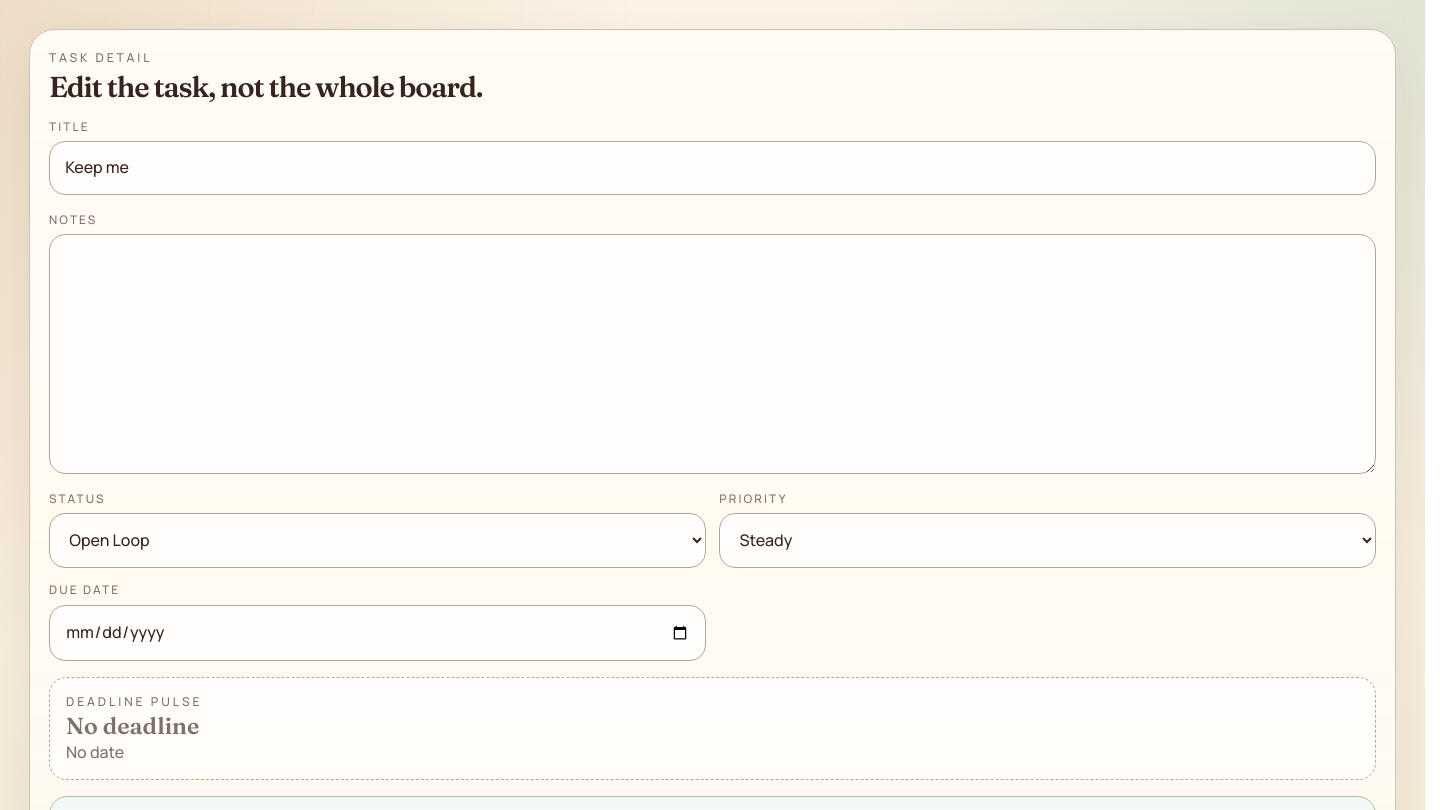
Test: TaskDetail editable title › shows an error when the user clears the title and blurs
Clear the field labelled "Title": (712, 168) [49,141,1376,195]
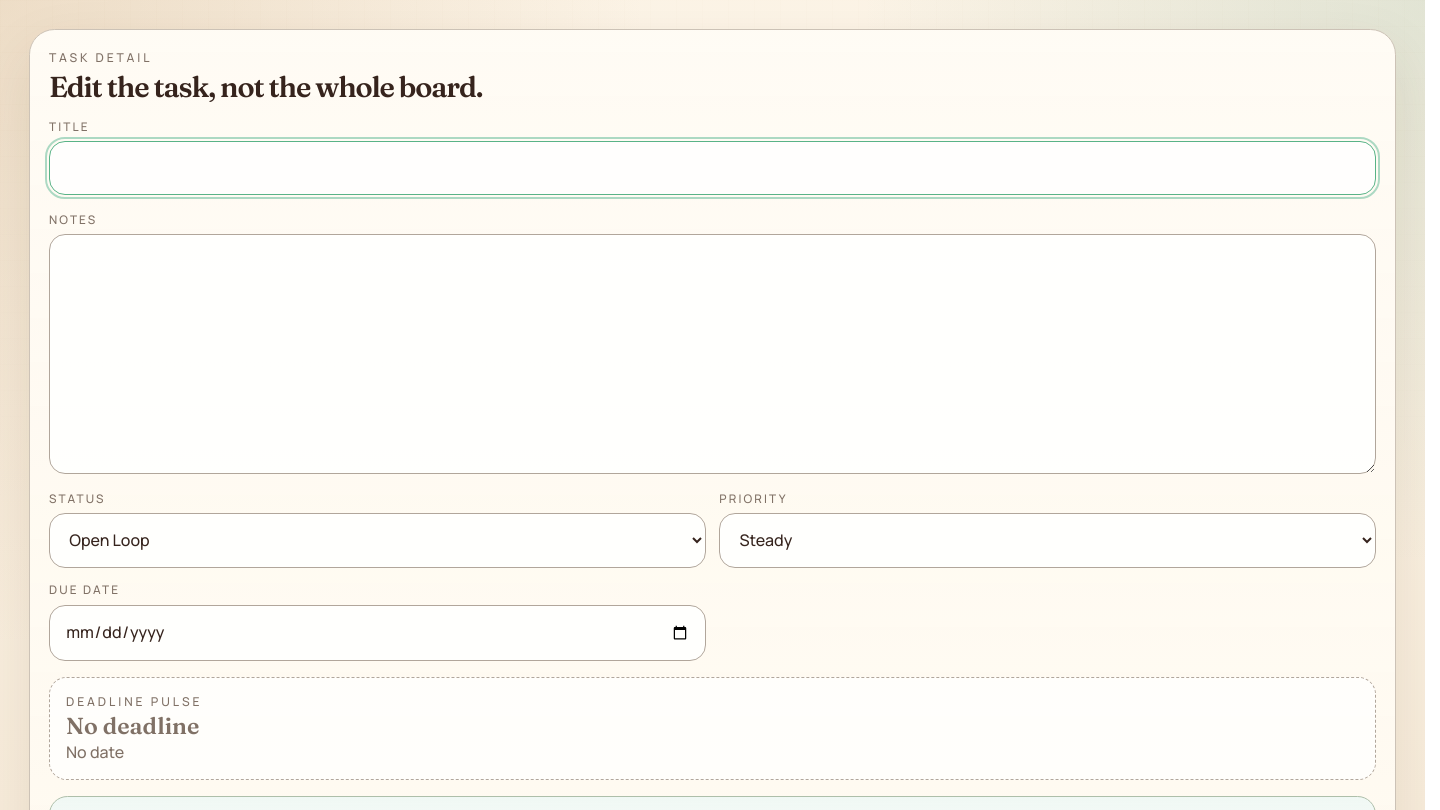
Press Tab
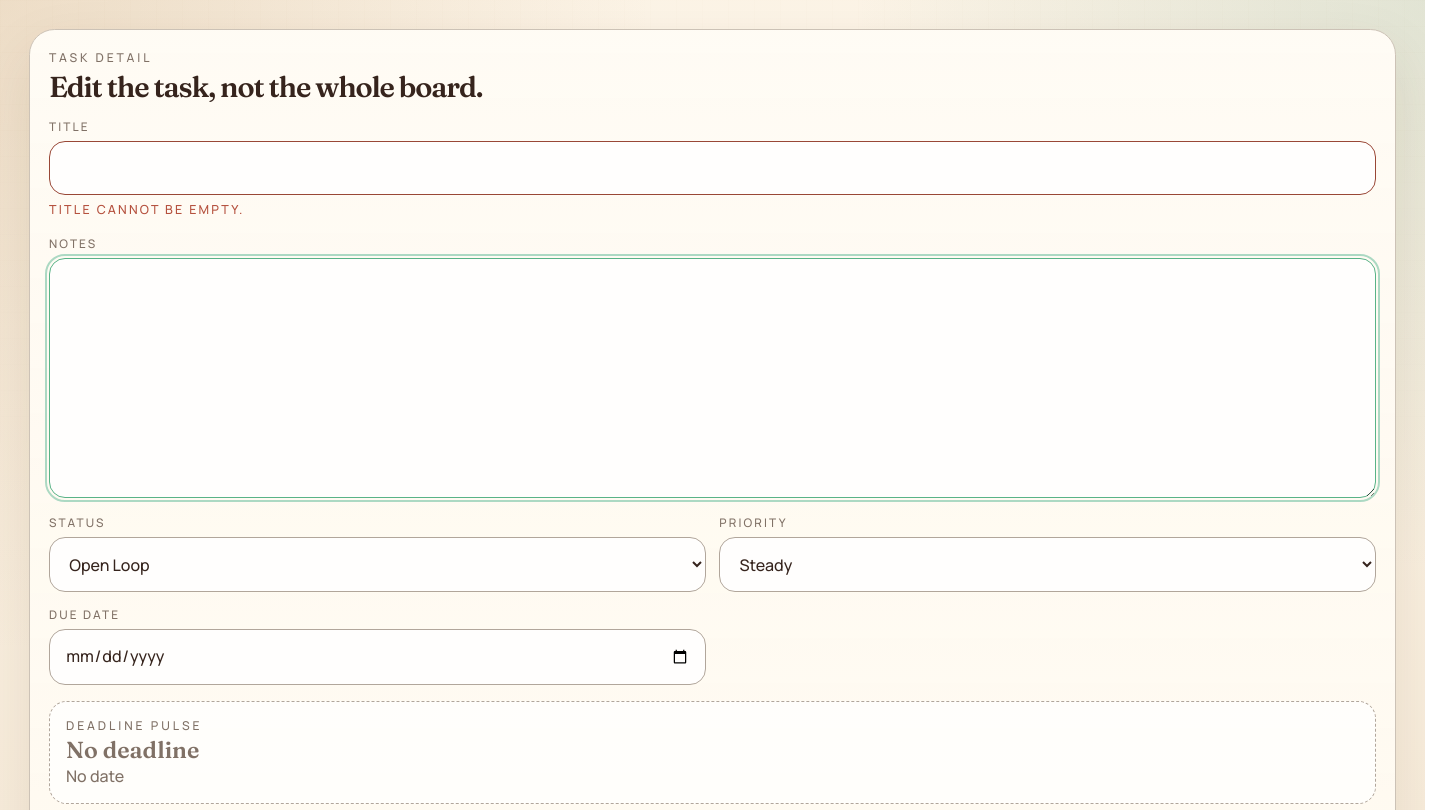
Now the message reads "Title cannot be empty.", box [49,201,245,218]
